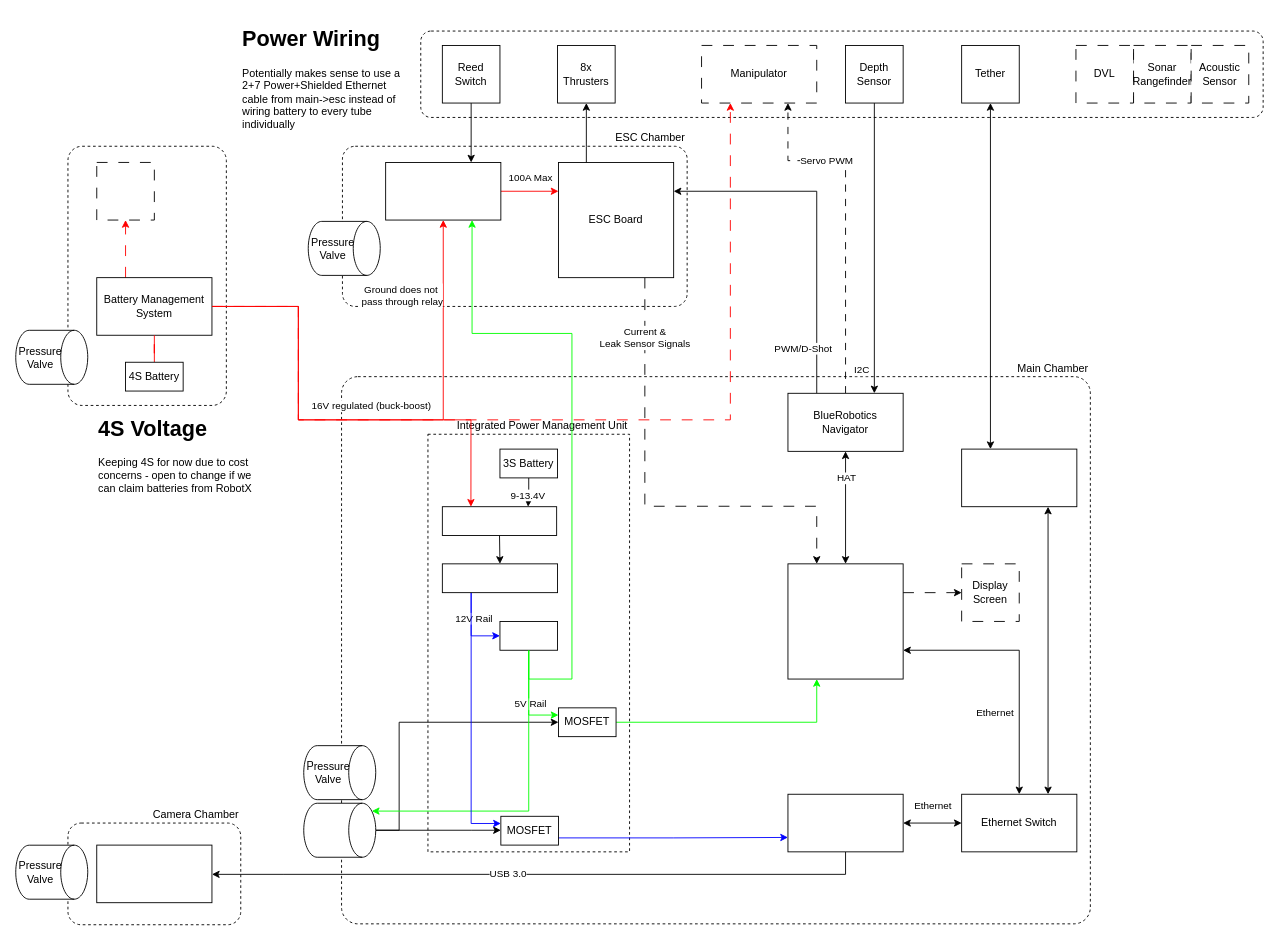
The diagram is 1279 pixels wide and 941 high, and some of its shapes have lost their labels. Each missing label, with the box of its shape:
12V Buck Boost: (441, 563, 558, 593)
5V Buck: (499, 621, 558, 650)
Battery Chamber: (67, 145, 226, 405)
Cap Switch: (303, 802, 376, 857)
External: (420, 30, 1263, 117)
Fathom-X Tether Board: (961, 448, 1077, 507)
Floodlight: (96, 162, 154, 220)
Jetson Orin NX: (787, 793, 903, 852)
OAK-D Camera: (96, 844, 212, 903)
Raspberry Pi: (787, 563, 903, 679)
Relay: (385, 162, 501, 220)
UPS Circuit: (441, 506, 557, 536)
